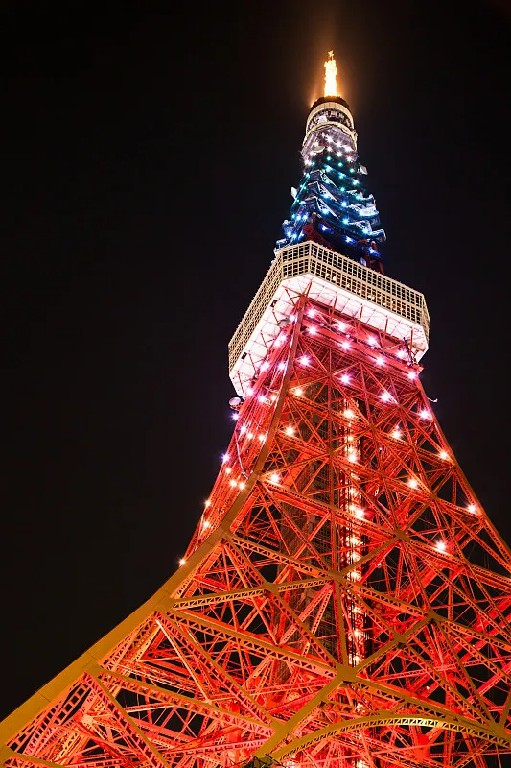Tokyo: (2, 44, 511, 766)
